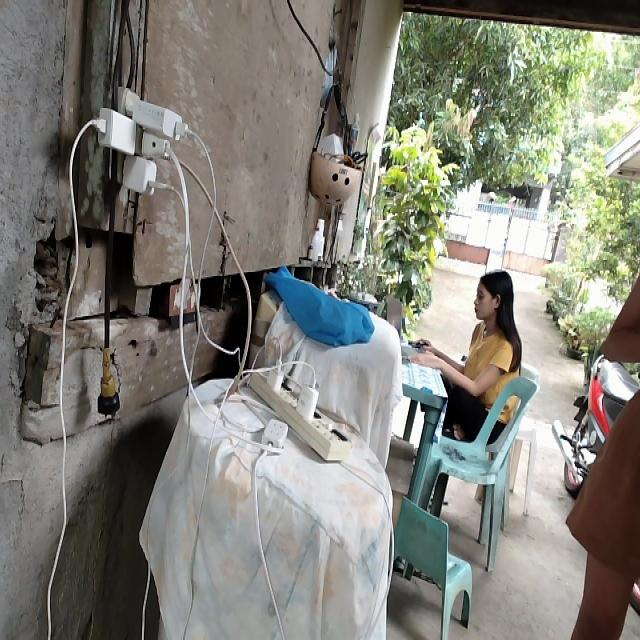-: (93, 81, 190, 196)
